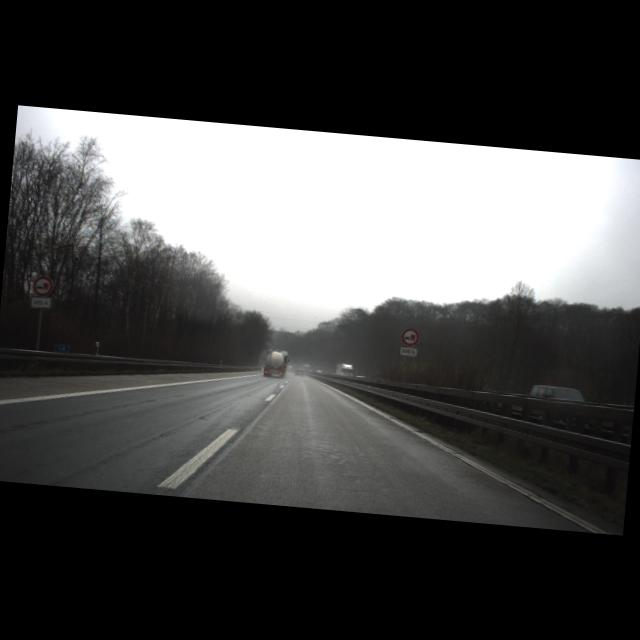prohibitory: (32, 274, 54, 298), (400, 327, 420, 348)
